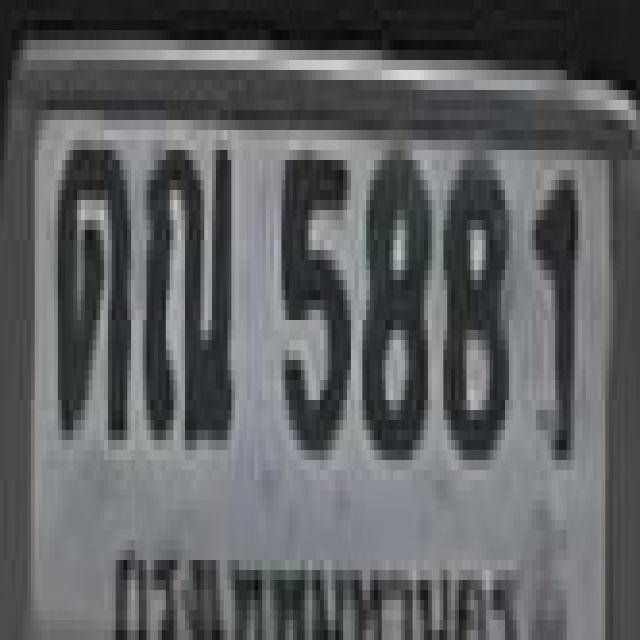1: (532, 170, 575, 450)
5: (278, 145, 347, 445)
8: (359, 150, 428, 450), (440, 150, 505, 450)
A19: (141, 130, 229, 440)
A21: (54, 135, 127, 425)
